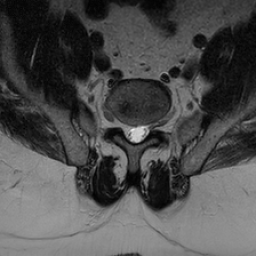CCS_normal: (131, 115, 139, 150)
LFS_normal: (147, 113, 156, 138)
LLS_normal: (139, 116, 147, 145)
RFS_stenosis: (115, 109, 123, 134)
RLS_normal: (123, 115, 131, 147)
